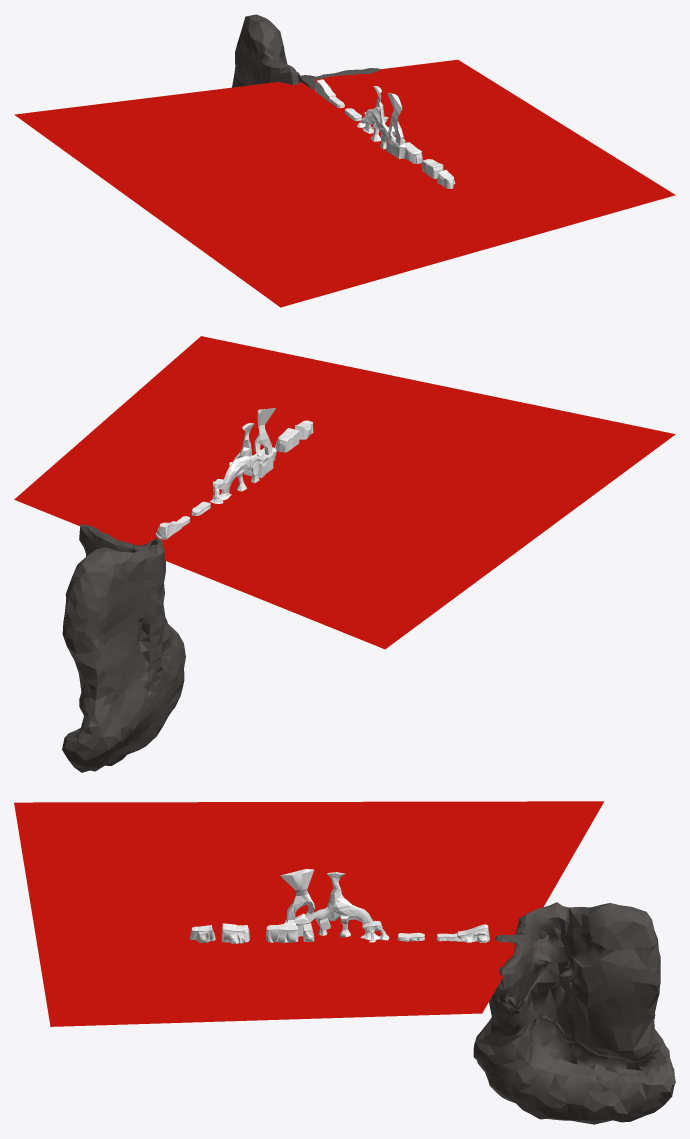
The model's file is first level old.fbx.
3 renders of one model, top to bottom at view 1: azimuth 30°, elevation 25°; view 2: azimuth 150°, elevation 25°; view 3: azimuth 270°, elevation 25°, orthographic. The views are drawn at different scales.
Visible parts, largest first — view 1: lavaRef, block06, block03; view 2: lavaRef, block06, block03; view 3: lavaRef, block06, block03, block05, block02.
Boxes of the visible parts, <box> form: lavaRef: <box>14,59,675,307</box>; block06: <box>232,14,380,89</box>; block03: <box>357,86,422,163</box>; lavaRef: <box>14,336,675,649</box>; block06: <box>62,524,185,772</box>; block03: <box>209,408,276,503</box>; lavaRef: <box>14,801,604,1026</box>; block06: <box>473,902,675,1124</box>; block03: <box>266,869,389,942</box>; block05: <box>436,924,489,942</box>; block02: <box>221,923,249,943</box>.
Bounding box in the file's own units: 423 × 220 × 524.
